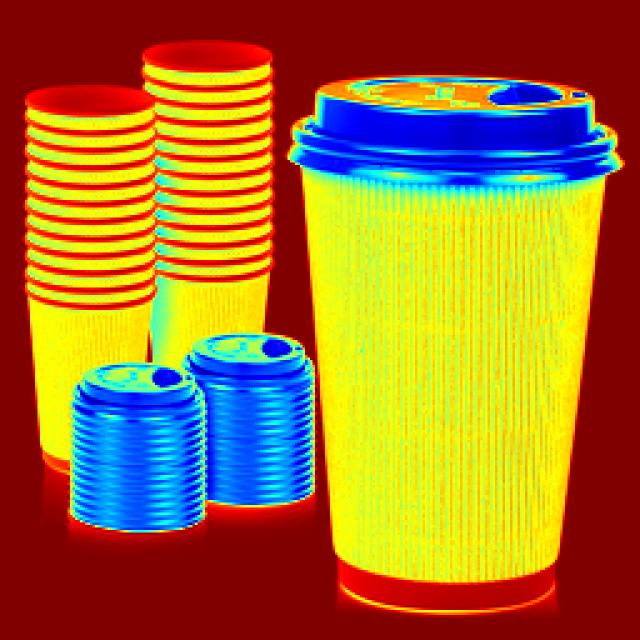Paper Cups: (294, 68, 601, 606), (139, 47, 294, 329), (12, 86, 156, 354), (61, 338, 210, 542), (187, 314, 318, 486)
